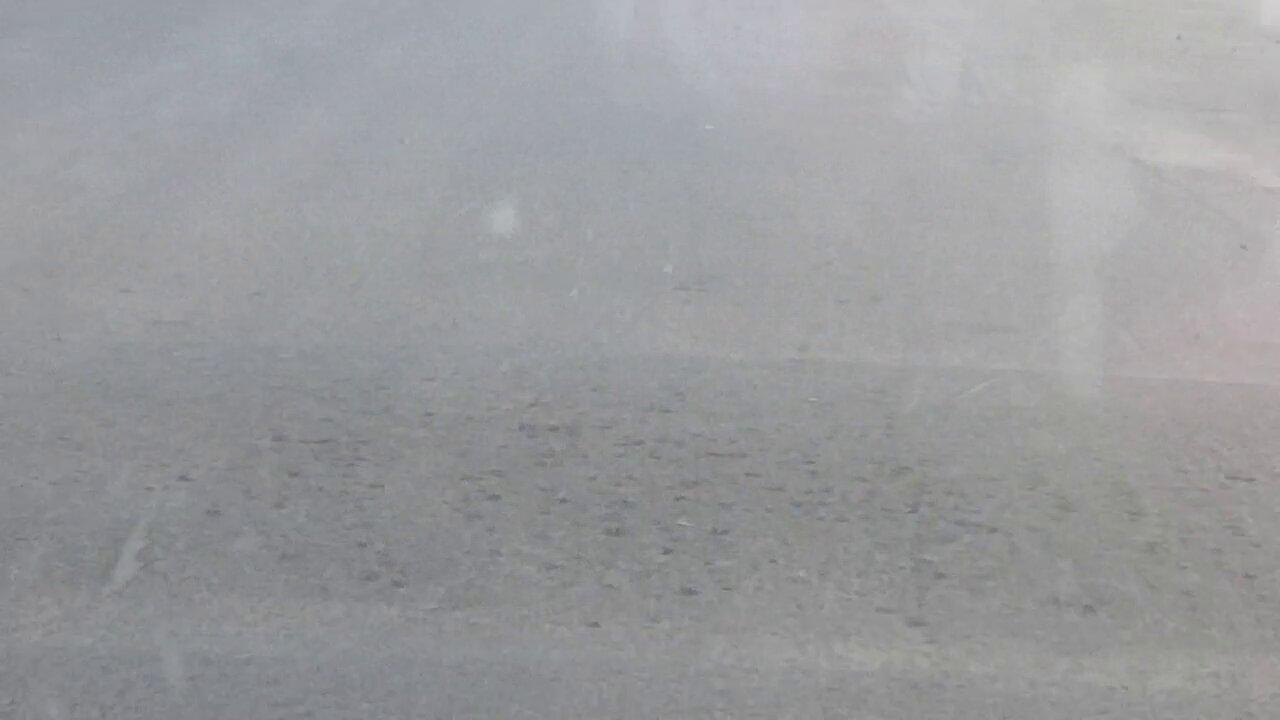Bump: (0, 303, 1280, 705)
